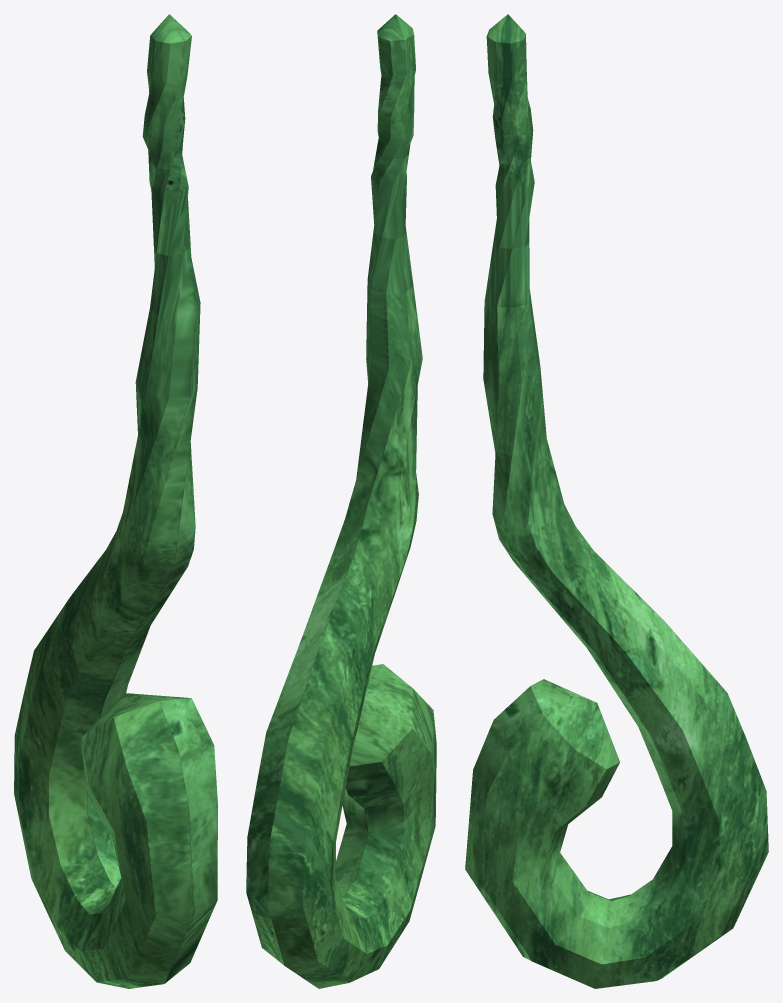
Rendered from ShamanWandMesh.fbx.
The picture shows the model from 3 angles, left to right: view 1: azimuth 30°, elevation 25°; view 2: azimuth 150°, elevation 25°; view 3: azimuth 270°, elevation 25°; orthographic projection. The views are drawn at different scales.
Visible parts, largest first — view 1: ShamanWandMesh; view 2: ShamanWandMesh; view 3: ShamanWandMesh.
Boxes of the visible parts, x1,y1,x2,y2 form: ShamanWandMesh: [14, 14, 217, 988]; ShamanWandMesh: [246, 14, 436, 988]; ShamanWandMesh: [465, 14, 768, 988].
Size of the model in its own units: 0.8706 by 6.78 by 1.92.
Materials: 1 (1 with a texture image).
